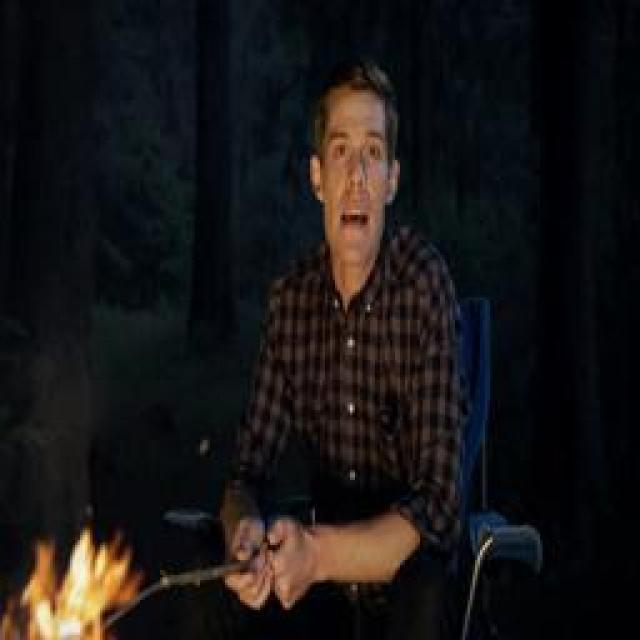Fire: (0, 525, 138, 640)
